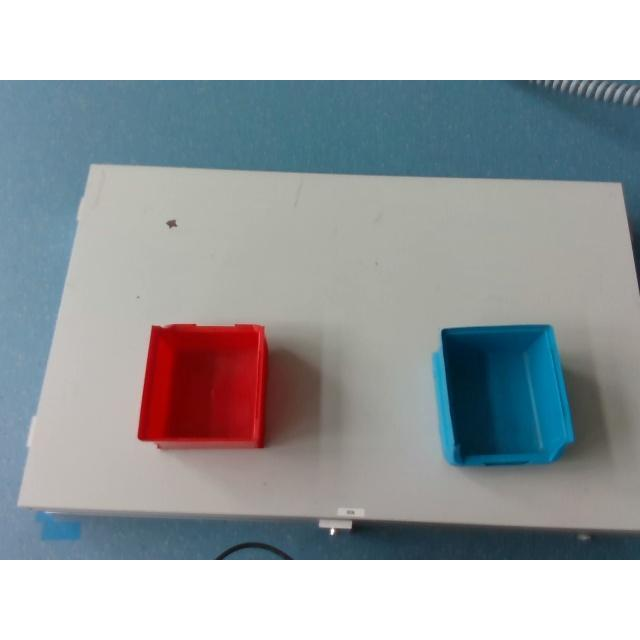container_box_blue: (430, 322, 574, 466)
container_box_red: (138, 324, 270, 452)
